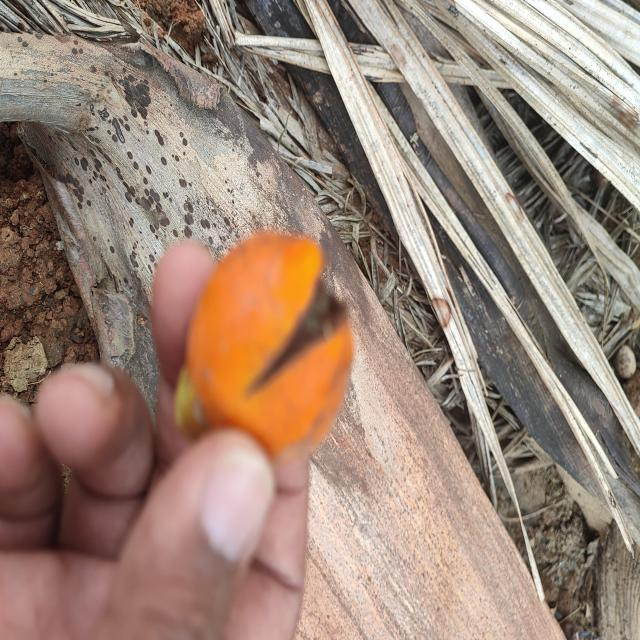damaged: (180, 230, 353, 492)
